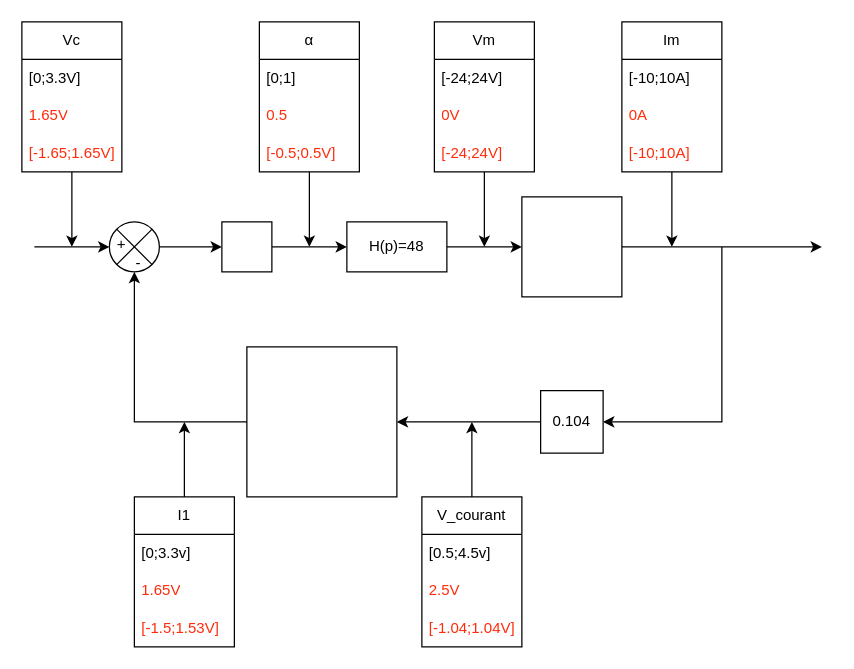
Some shapes in this 854 by 669 pixel diagram are drawn without their labels. Each missing label, with the centre of its shape:
C(p): pixel 246 246
K 1 /(1+ τ 1 p): pixel 571 246
K 2 /(1+ τ 2 p)* (1+12/10)* 1/(1+220*22np): pixel 321 421
